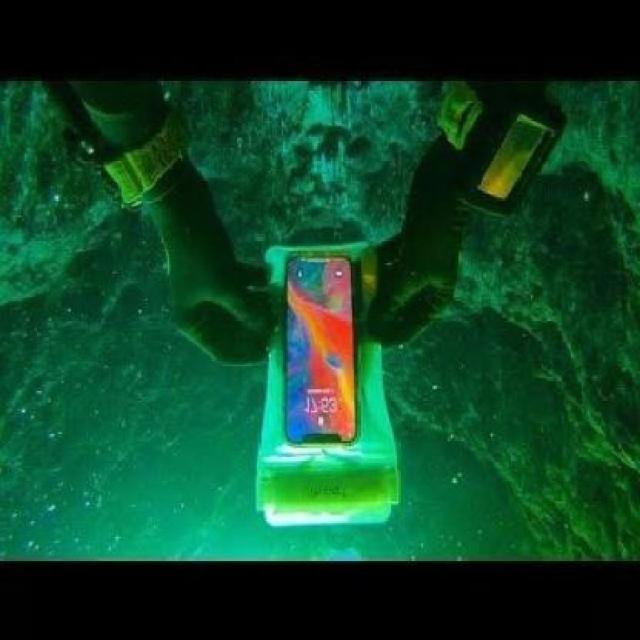cellphone: (283, 252, 359, 450)
